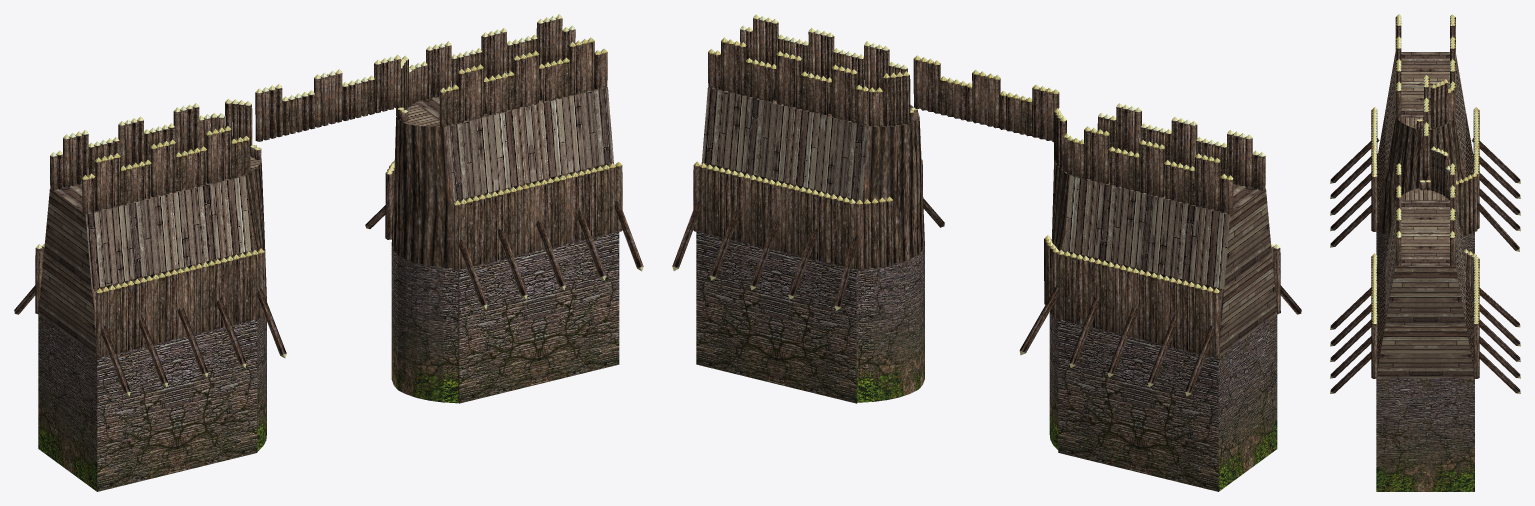
Rendered from wooden_wall_gate.dae.
3 renders of one model, left to right at view 1: azimuth 30°, elevation 25°; view 2: azimuth 150°, elevation 25°; view 3: azimuth 270°, elevation 25°, orthographic. The views are drawn at different scales.
Parts seen in each view (by area): view 1: siege_gate_wood_002; view 2: siege_gate_wood_002; view 3: siege_gate_wood_002.
Part boxes in pixels (left/top/right/bottom): siege_gate_wood_002: left=14, top=14, right=643, bottom=491; siege_gate_wood_002: left=672, top=14, right=1301, bottom=491; siege_gate_wood_002: left=1330, top=14, right=1520, bottom=491.
Size of the model in its own units: 38.08 by 14.24 by 23.17.
